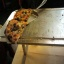pizza: (7, 10, 26, 41)
